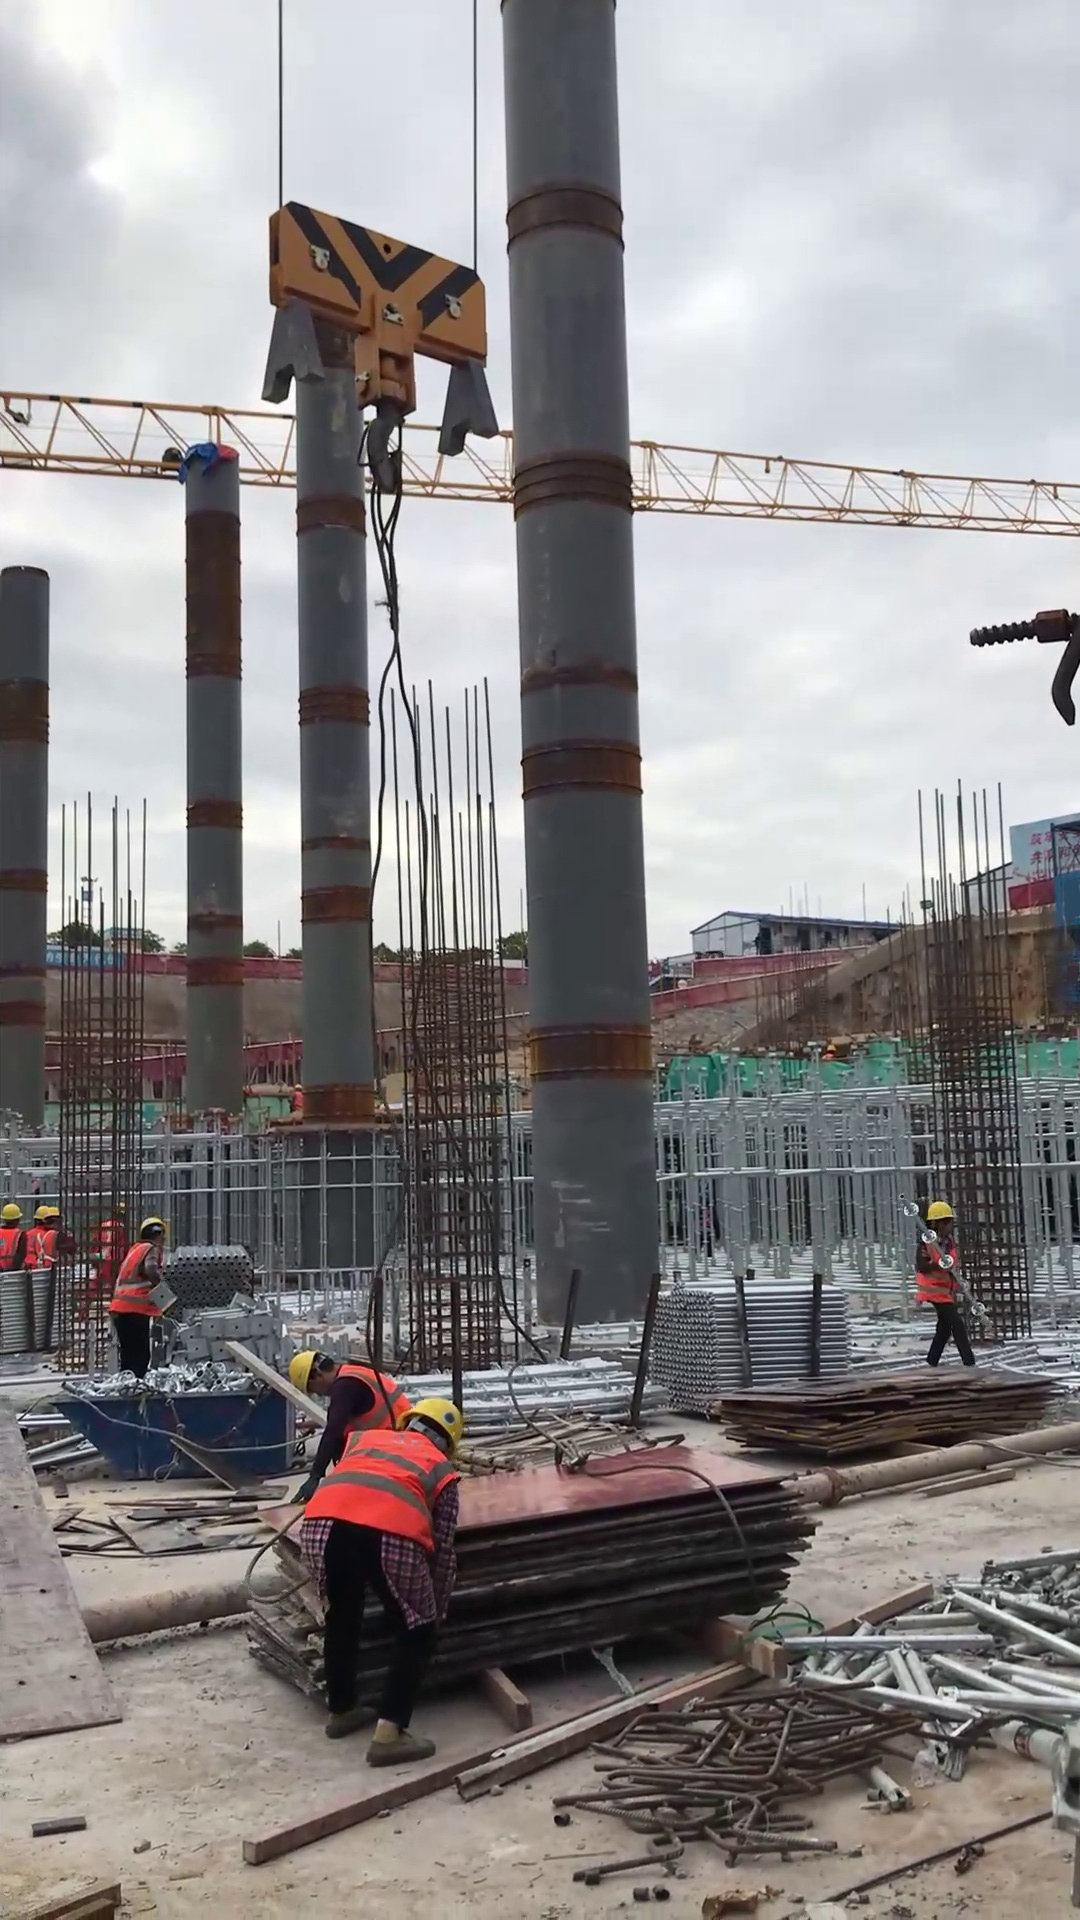helmet: (407, 1389, 468, 1455), (282, 1345, 318, 1400), (134, 1215, 173, 1247), (918, 1197, 960, 1227), (31, 1200, 60, 1229), (1, 1203, 24, 1224)
person: (292, 1392, 479, 1773), (278, 1342, 415, 1510), (908, 1190, 989, 1381), (102, 1210, 181, 1387), (28, 1200, 70, 1271), (1, 1197, 29, 1280)
vest: (294, 1427, 465, 1558), (332, 1350, 410, 1450), (107, 1245, 176, 1323), (915, 1237, 974, 1311), (31, 1229, 62, 1271), (1, 1223, 23, 1271)
